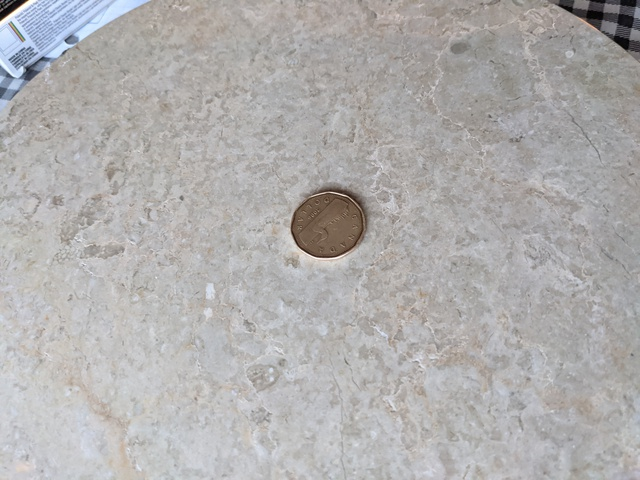loonie: (285, 186, 373, 262)
